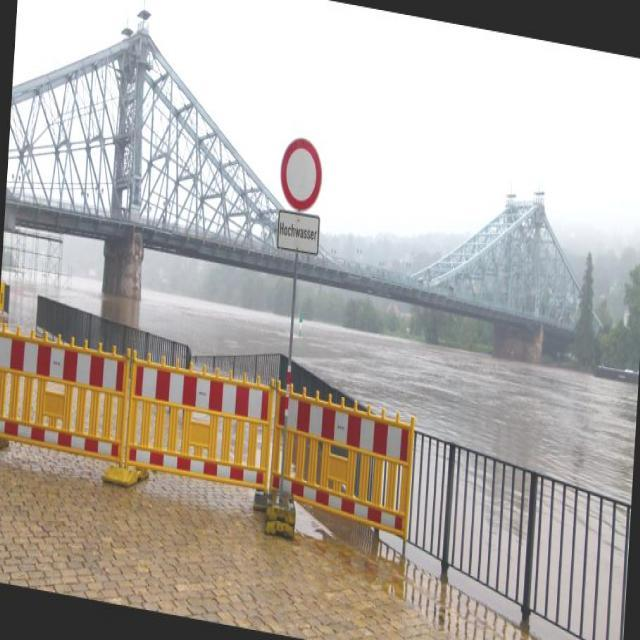flood: (52, 225, 639, 496)
